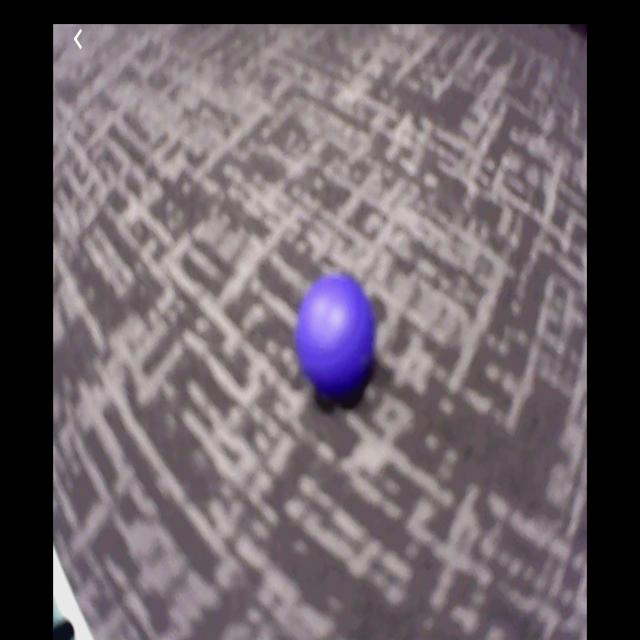ball: (295, 276, 377, 403)
